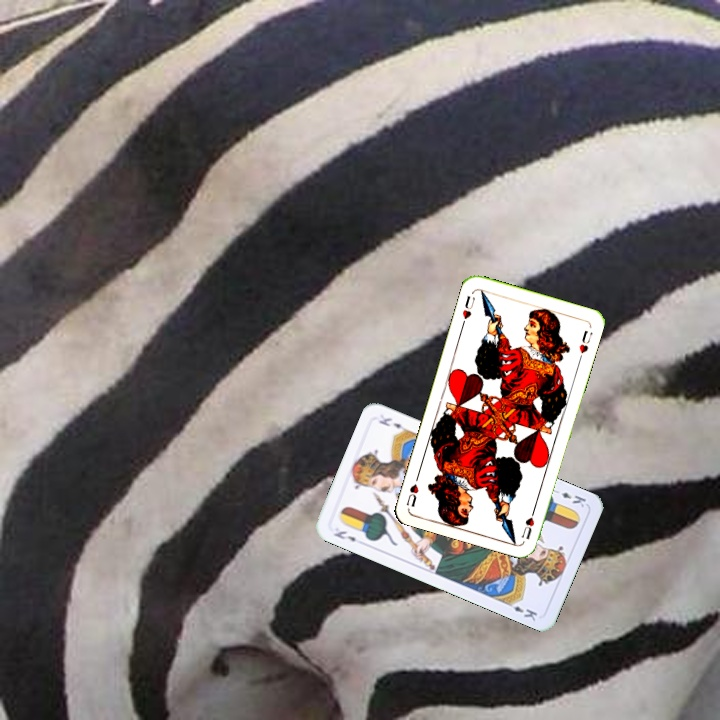EK: (549, 485, 588, 510), (330, 527, 358, 544)
HU: (517, 503, 538, 542), (458, 292, 478, 322)
